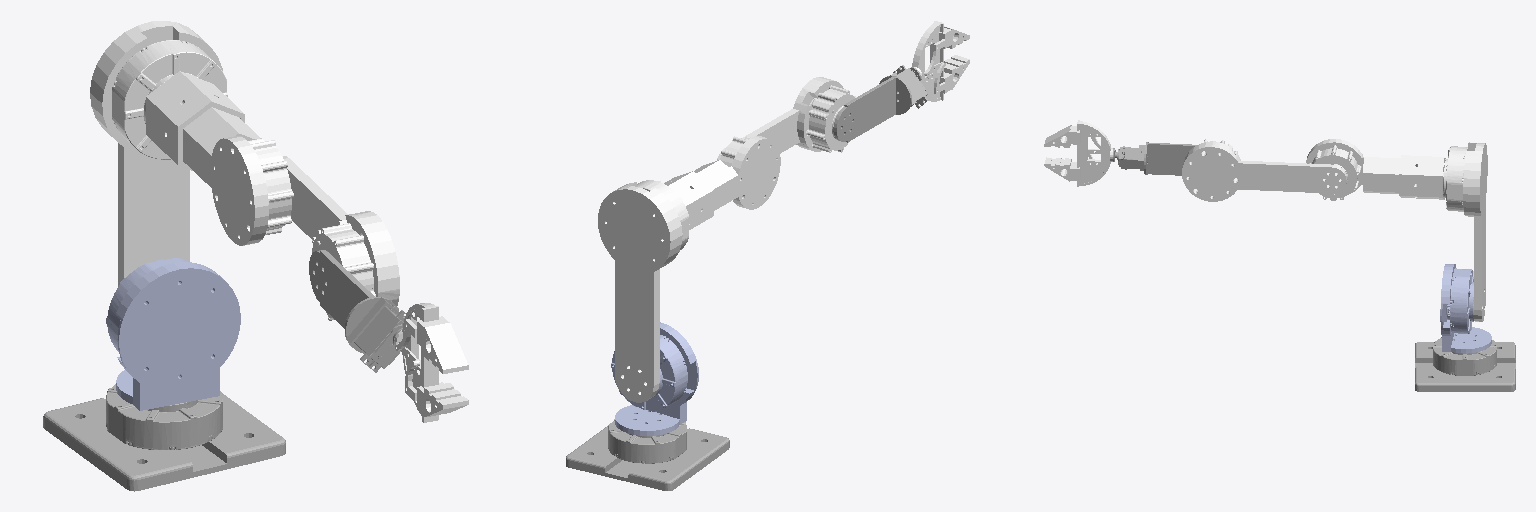
robot.urdf — arm_urdf_3:
<?xml version="1.0" encoding="utf-8"?>
<!-- This URDF was automatically created by SolidWorks to URDF Exporter! Originally created by [author] ([email redacted]) 
     Commit Version: 1.6.0-4-g7f85cfe  Build Version: 1.6.7995.38578
     For more information, please see http://wiki.ros.org/sw_urdf_exporter -->
<robot
  name="arm_urdf_3">
  <link
    name="base_link">
    <inertial>
      <origin
        xyz="4.43651131963371E-05 -2.8885171285728E-05 0.0158224576412946"
        rpy="0 0 0" />
      <mass
        value="0.428070776939848" />
      <inertia
        ixx="0.000575467428733975"
        ixy="-3.62623580867401E-07"
        ixz="-3.06363844258239E-08"
        iyy="0.000634963206263462"
        iyz="2.52853087806461E-08"
        izz="0.00118987402254947" />
    </inertial>
    <visual>
      <origin
        xyz="0 0 0"
        rpy="0 0 0" />
      <geometry>
        <mesh
          filename="package://arm_urdf_3/meshes/base_link.STL" />
      </geometry>
      <material
        name="">
        <color
          rgba="0.752941176470588 0.752941176470588 0.752941176470588 1" />
      </material>
    </visual>
    <collision>
      <origin
        xyz="0 0 0"
        rpy="0 0 0" />
      <geometry>
        <mesh
          filename="package://arm_urdf_3/meshes/base_link.STL" />
      </geometry>
    </collision>
  </link>
  <link
    name="link1">
    <inertial>
      <origin
        xyz="4.09164557442134E-05 0.0515526817243162 -0.00786713132467795"
        rpy="0 0 0" />
      <mass
        value="0.302397197284451" />
      <inertia
        ixx="0.00031935769042082"
        ixy="3.62992291518688E-07"
        ixz="-2.53380709802516E-08"
        iyy="0.000214881407155805"
        iyz="3.61867518226297E-05"
        izz="0.000460439360040743" />
    </inertial>
    <visual>
      <origin
        xyz="0 0 0"
        rpy="0 0 0" />
      <geometry>
        <mesh
          filename="package://arm_urdf_3/meshes/link1.STL" />
      </geometry>
      <material
        name="">
        <color
          rgba="0.792156862745098 0.819607843137255 0.933333333333333 1" />
      </material>
    </visual>
    <collision>
      <origin
        xyz="0 0 0"
        rpy="0 0 0" />
      <geometry>
        <mesh
          filename="package://arm_urdf_3/meshes/link1.STL" />
      </geometry>
    </collision>
  </link>
  <joint
    name="joint1"
    type="continuous">
    <origin
      xyz="0 0 0.0535000000000001"
      rpy="1.5707963267949 0 3.03605779295546" />
    <parent
      link="base_link" />
    <child
      link="link1" />
    <axis
      xyz="0 1 0" />
  </joint>
  <link
    name="link2">
    <inertial>
      <origin
        xyz="3.92395398307842E-05 0.166144444180438 -0.0210155965188608"
        rpy="0 0 0" />
      <mass
        value="0.484000283064668" />
      <inertia
        ixx="0.00187228131978696"
        ixy="3.62828712799788E-07"
        ixz="3.06356328947462E-08"
        iyy="0.000317486661670016"
        iyz="4.06203891672778E-05"
        izz="0.00215425402841733" />
    </inertial>
    <visual>
      <origin
        xyz="0 0 0"
        rpy="0 0 0" />
      <geometry>
        <mesh
          filename="package://arm_urdf_3/meshes/link2.STL" />
      </geometry>
      <material
        name="">
        <color
          rgba="1 1 1 1" />
      </material>
    </visual>
    <collision>
      <origin
        xyz="0 0 0"
        rpy="0 0 0" />
      <geometry>
        <mesh
          filename="package://arm_urdf_3/meshes/link2.STL" />
      </geometry>
    </collision>
  </link>
  <joint
    name="joint2"
    type="continuous">
    <origin
      xyz="0 0.0599998874435843 0.0280445449639815"
      rpy="0 0 0" />
    <parent
      link="link1" />
    <child
      link="link2" />
    <axis
      xyz="0 0 1" />
  </joint>
  <link
    name="link3">
    <inertial>
      <origin
        xyz="-0.00247181963011907 0.000119618488130691 0.0975952077248822"
        rpy="0 0 0" />
      <mass
        value="0.450958280270348" />
      <inertia
        ixx="0.000769021905181136"
        ixy="1.29036983782683E-06"
        ixz="7.53479345510201E-05"
        iyy="0.000723587596514331"
        iyz="-7.14575570646752E-06"
        izz="0.000221450510479971" />
    </inertial>
    <visual>
      <origin
        xyz="0 0 0"
        rpy="0 0 0" />
      <geometry>
        <mesh
          filename="package://arm_urdf_3/meshes/link3.STL" />
      </geometry>
      <material
        name="">
        <color
          rgba="1 1 1 1" />
      </material>
    </visual>
    <collision>
      <origin
        xyz="0 0 0"
        rpy="0 0 0" />
      <geometry>
        <mesh
          filename="package://arm_urdf_3/meshes/link3.STL" />
      </geometry>
    </collision>
  </link>
  <joint
    name="joint3"
    type="continuous">
    <origin
      xyz="-1.19701508384563E-05 0.199993814711911 -0.0585000004059756"
      rpy="-3.14159265358979 0 3.14159265358979" />
    <parent
      link="link2" />
    <child
      link="link3" />
    <axis
      xyz="0 0 1" />
  </joint>
  <link
    name="link4">
    <inertial>
      <origin
        xyz="-0.151333254542468 3.59697783389734E-05 0.0209661500102618"
        rpy="0 0 0" />
      <mass
        value="0.264553625485776" />
      <inertia
        ixx="0.000104474222368516"
        ixy="3.48238861933683E-06"
        ixz="-1.33666431895631E-05"
        iyy="0.00075349085871742"
        iyz="-3.32425227442824E-07"
        izz="0.000843052770779277" />
    </inertial>
    <visual>
      <origin
        xyz="0 0 0"
        rpy="0 0 0" />
      <geometry>
        <mesh
          filename="package://arm_urdf_3/meshes/link4.STL" />
      </geometry>
      <material
        name="">
        <color
          rgba="1 1 1 1" />
      </material>
    </visual>
    <collision>
      <origin
        xyz="0 0 0"
        rpy="0 0 0" />
      <geometry>
        <mesh
          filename="package://arm_urdf_3/meshes/link4.STL" />
      </geometry>
    </collision>
  </link>
  <joint
    name="joint4"
    type="continuous">
    <origin
      xyz="-0.0127857323002432 0 0.164999999594028"
      rpy="0 1.5707963267949 0" />
    <parent
      link="link3" />
    <child
      link="link4" />
    <axis
      xyz="0 0 -1" />
  </joint>
  <link
    name="link5">
    <inertial>
      <origin
        xyz="0.0673808742697421 7.06982942748624E-05 -0.00269720601777057"
        rpy="0 0 0" />
      <mass
        value="0.044058423409941" />
      <inertia
        ixx="9.89837792980498E-06"
        ixy="-1.29627816945964E-09"
        ixz="1.29628235234438E-09"
        iyy="5.12397922423975E-05"
        iyz="6.34325199388248E-07"
        izz="5.68326901267909E-05" />
    </inertial>
    <visual>
      <origin
        xyz="0 0 0"
        rpy="0 0 0" />
      <geometry>
        <mesh
          filename="package://arm_urdf_3/meshes/link5.STL" />
      </geometry>
      <material
        name="">
        <color
          rgba="0.752941176470588 0.752941176470588 0.752941176470588 1" />
      </material>
    </visual>
    <collision>
      <origin
        xyz="0 0 0"
        rpy="0 0 0" />
      <geometry>
        <mesh
          filename="package://arm_urdf_3/meshes/link5.STL" />
      </geometry>
    </collision>
  </link>
  <joint
    name="joint5"
    type="continuous">
    <origin
      xyz="-0.181041455341999 -0.000601284522060319 -0.0145000000000201"
      rpy="3.14159265358979 0 3.14159265358979" />
    <parent
      link="link4" />
    <child
      link="link5" />
    <axis
      xyz="0 0 1" />
  </joint>
  <link
    name="link6">
    <inertial>
      <origin
        xyz="0.000954780559878854 -4.23986265664228E-05 0.0485773439716094"
        rpy="0 0 0" />
      <mass
        value="0.0627089594333994" />
      <inertia
        ixx="3.87610497034872E-05"
        ixy="-3.25047906618864E-08"
        ixz="1.4033947613988E-06"
        iyy="8.16316481530172E-05"
        iyz="-6.3916986900117E-07"
        izz="4.69833138682031E-05" />
    </inertial>
    <visual>
      <origin
        xyz="0 0 0"
        rpy="0 0 0" />
      <geometry>
        <mesh
          filename="package://arm_urdf_3/meshes/link6.STL" />
      </geometry>
      <material
        name="">
        <color
          rgba="1 1 1 1" />
      </material>
    </visual>
    <collision>
      <origin
        xyz="0 0 0"
        rpy="0 0 0" />
      <geometry>
        <mesh
          filename="package://arm_urdf_3/meshes/link6.STL" />
      </geometry>
    </collision>
  </link>
  <joint
    name="joint6"
    type="continuous">
    <origin
      xyz="0.154849999999999 0.00629325035255873 -0.00971248916810518"
      rpy="-1.5707963267949 0 -1.57079632679498" />
    <parent
      link="link5" />
    <child
      link="link6" />
    <axis
      xyz="0 0 1" />
  </joint>
</robot>

--- What the picture shows (computed from the rendered views, not written in the file) ---
Views: 3 orthographic renders of the robot side by side, from view 1: azimuth 30°, elevation 25°; view 2: azimuth 150°, elevation 25°; view 3: azimuth 270°, elevation 25°.
Model arm_urdf_3 with 7 links and 6 joints (6 continuous), rooted at base_link, posed all joints at 0.
Links seen in each view (by area): view 1: link2, link1, base_link, link3, link4, link5, link6; view 2: link2, base_link, link3, link1, link4, link5, link6; view 3: link4, link3, base_link, link2, link1, link6, link5.
Link boxes in pixels (x1,y1,x2,y2): link2: (90, 21, 227, 286); link1: (106, 258, 240, 410); base_link: (43, 384, 285, 491); link3: (146, 71, 293, 245); link4: (283, 156, 399, 320); link5: (309, 250, 405, 372); link6: (394, 303, 468, 422); link2: (598, 180, 689, 402); base_link: (566, 419, 729, 490); link3: (664, 136, 780, 229); link1: (611, 322, 698, 435); link4: (717, 77, 856, 160); link5: (833, 65, 927, 142); link6: (912, 21, 969, 101); link4: (1182, 139, 1346, 201); link3: (1306, 139, 1445, 200); base_link: (1415, 337, 1515, 391); link2: (1443, 142, 1487, 321); link1: (1440, 264, 1491, 353); link6: (1044, 120, 1112, 186); link5: (1113, 142, 1196, 175).
Size in the robot's own frame: 0.1789 by 0.6998 by 0.3707 metres.
Meshes: 7 distinct files referenced, 7 mesh visuals loaded (7 binary STL).